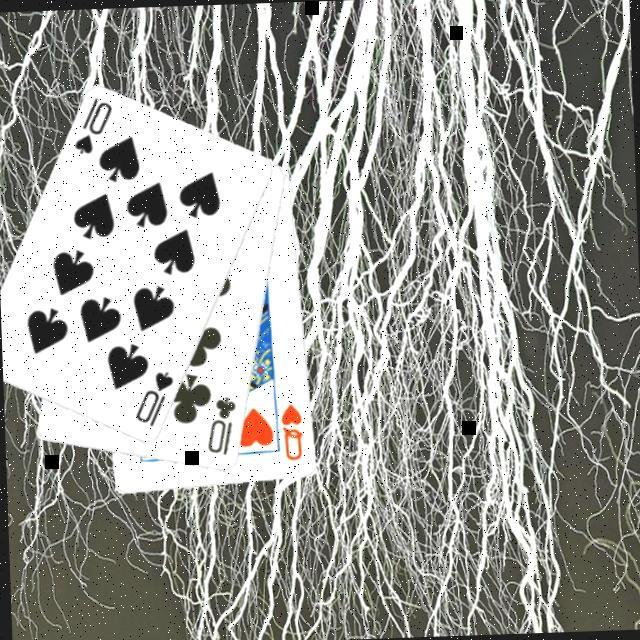10C: (204, 393, 242, 460)
10S: (70, 95, 118, 160), (131, 369, 179, 432)
QH: (278, 401, 307, 464)
